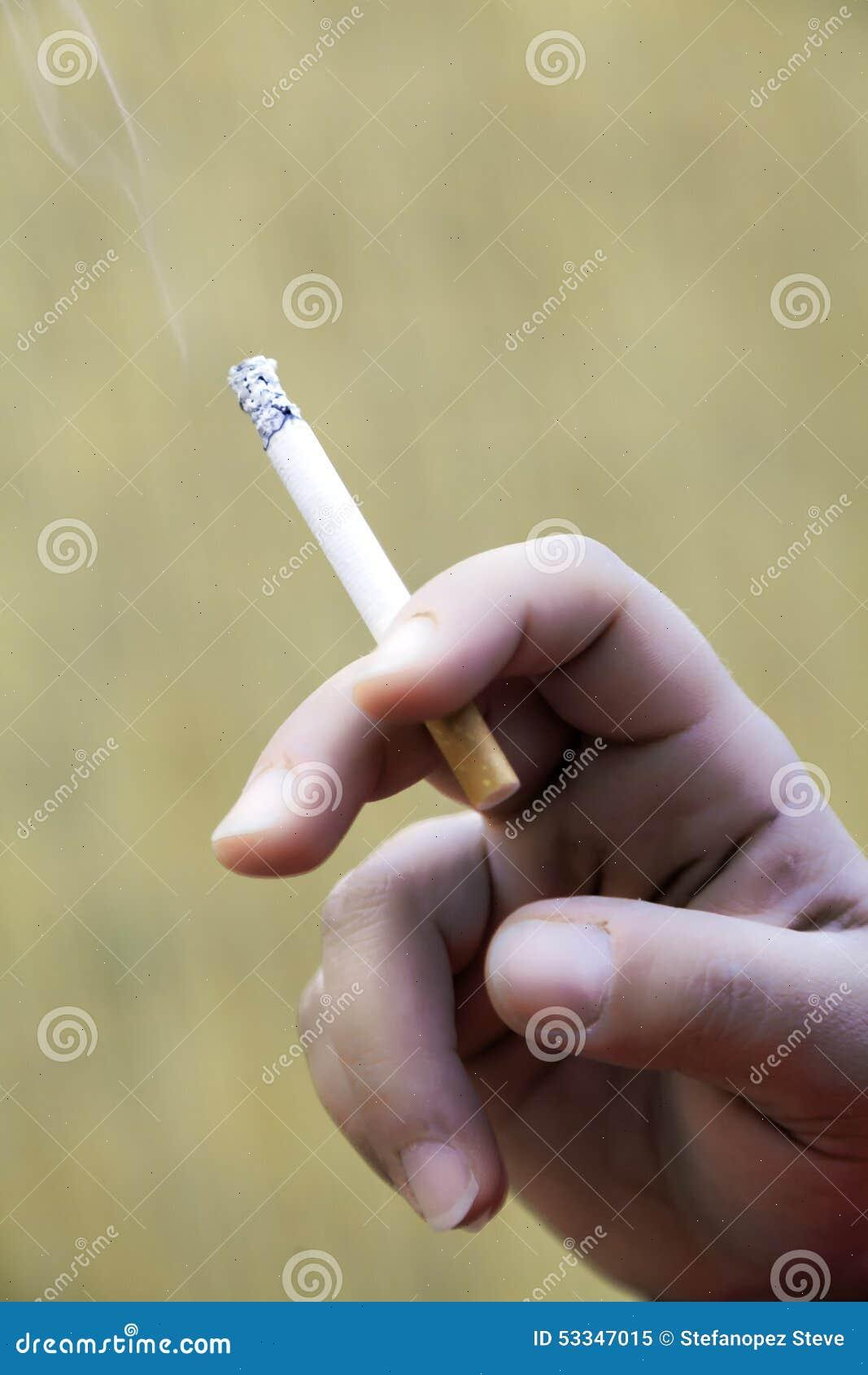cigarette: (229, 356, 408, 641)
